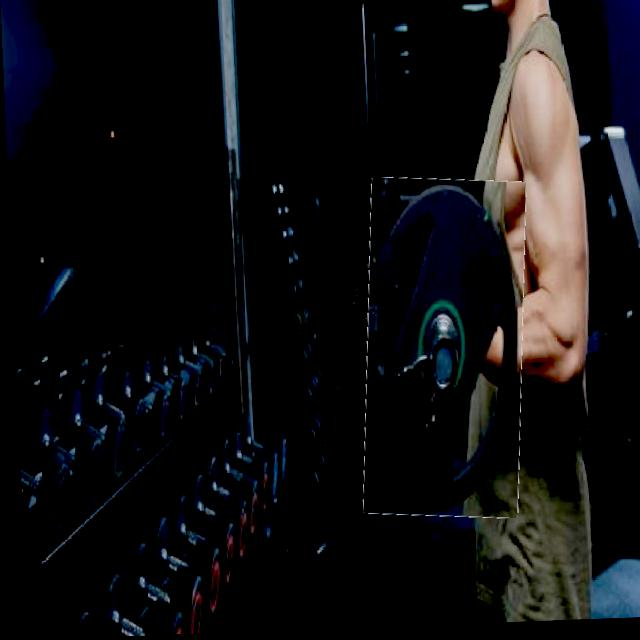barbell: (354, 180, 531, 525)
